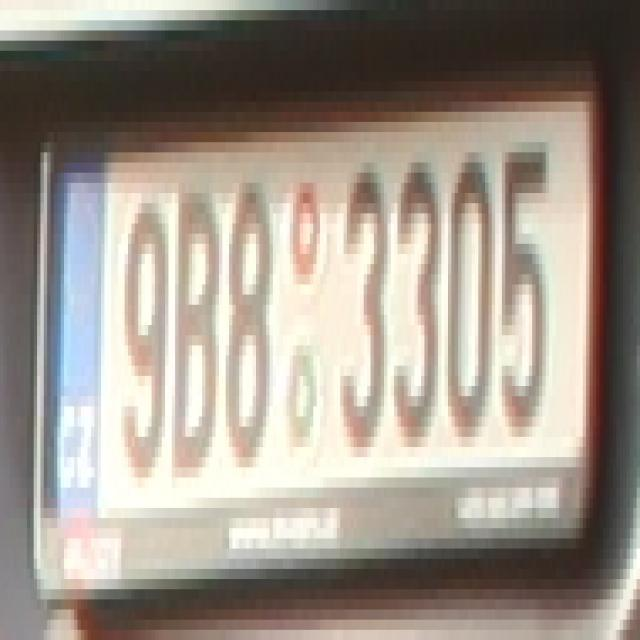0: (438, 152, 488, 416)
3: (390, 142, 444, 427), (336, 152, 381, 437)
5: (502, 152, 549, 416)
8: (226, 193, 273, 457)
9: (122, 192, 168, 478)
B: (172, 182, 222, 468)
